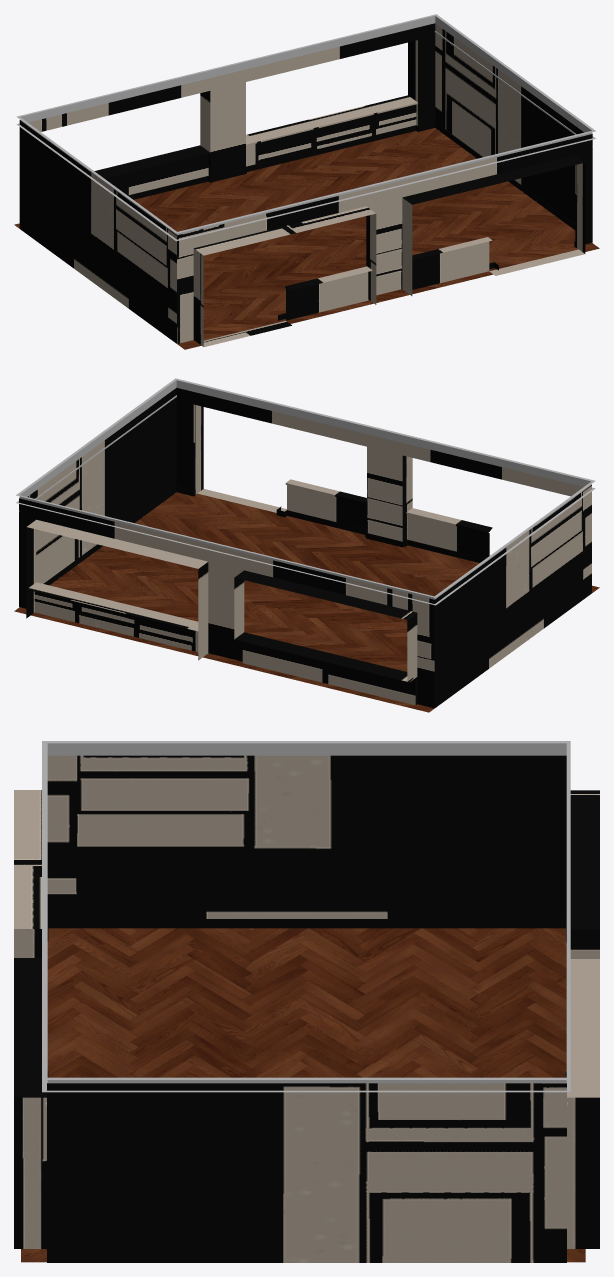
Rendered from Structure.fbx.
3 views of the same model, one above another, from view 1: azimuth 30°, elevation 25°; view 2: azimuth 150°, elevation 25°; view 3: azimuth 270°, elevation 25° (orthographic). The views are drawn at different scales.
Visible parts, largest first — view 1: Wall_04, FLOOR1, Ceiling_Border, Skirting; view 2: Wall_04, FLOOR1, Ceiling_Border, Skirting; view 3: Wall_04, FLOOR1, Ceiling_Border, Skirting.
Part boxes in pixels (x1,y1,x2,y2): Wall_04: (19, 23, 592, 346); FLOOR1: (14, 128, 599, 349); Ceiling_Border: (16, 14, 595, 241); Skirting: (128, 122, 576, 320); Wall_04: (19, 387, 591, 708); FLOOR1: (14, 492, 599, 712); Ceiling_Border: (16, 378, 595, 605); Skirting: (43, 486, 485, 585); Wall_04: (14, 755, 599, 1262); FLOOR1: (21, 928, 585, 1262); Ceiling_Border: (42, 741, 570, 1092); Skirting: (47, 919, 566, 1077).
Bounding box in the file's own units: 1562 × 399 × 1142.
